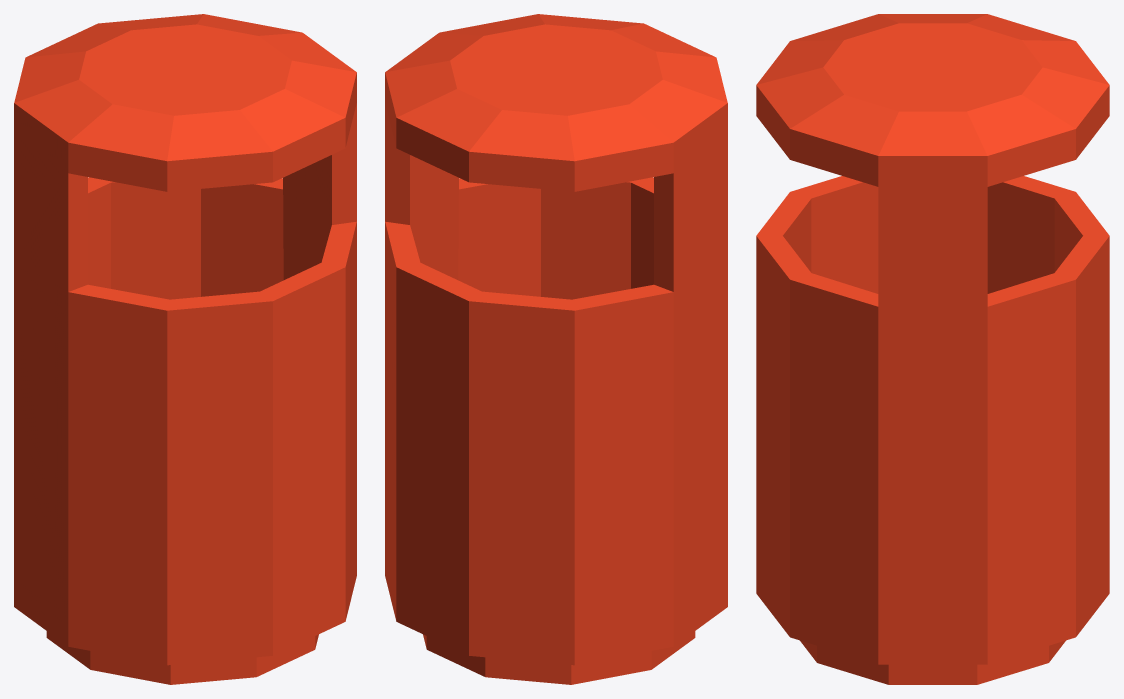
File: SM_Bin_E_City.fbx
3 views of the same model, side by side, from view 1: azimuth 30°, elevation 25°; view 2: azimuth 150°, elevation 25°; view 3: azimuth 270°, elevation 25° (orthographic).
Visible parts, largest first — view 1: SM_Bin_E_City; view 2: SM_Bin_E_City; view 3: SM_Bin_E_City.
Boxes of the visible parts, box(x1,y1,x2,y2) form: SM_Bin_E_City: box(14, 14, 356, 684); SM_Bin_E_City: box(385, 14, 727, 684); SM_Bin_E_City: box(756, 14, 1109, 684).
Size of the model in its own units: 0.5097 by 0.937 by 0.5359.
